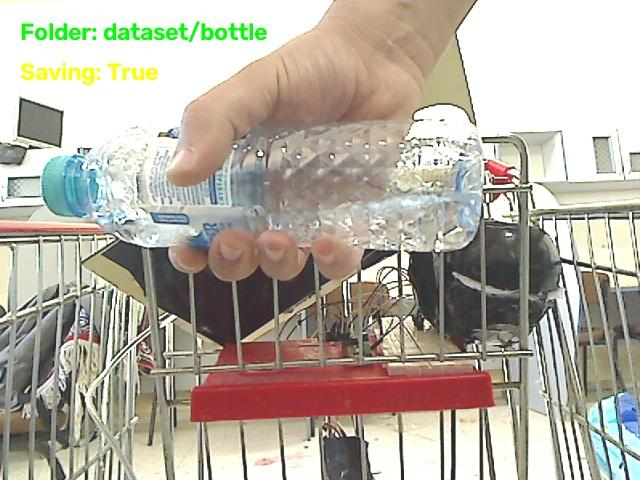Bottle: (42, 105, 484, 251)
can: (166, 41, 326, 180)
